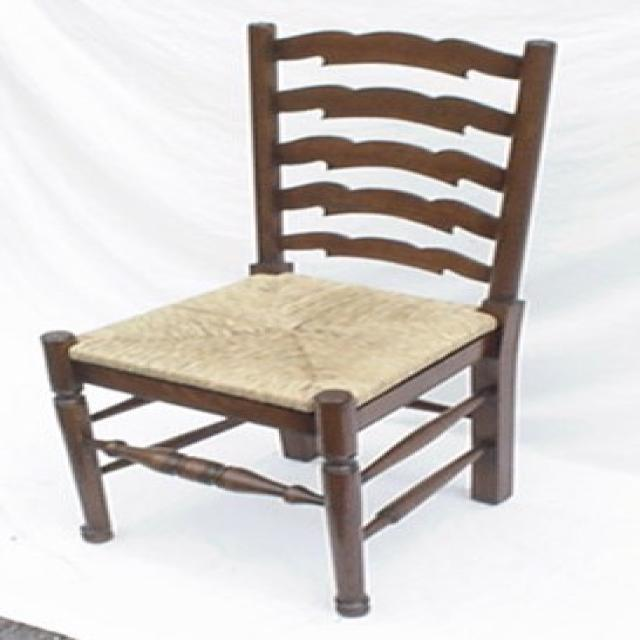chair: (38, 20, 556, 617)
